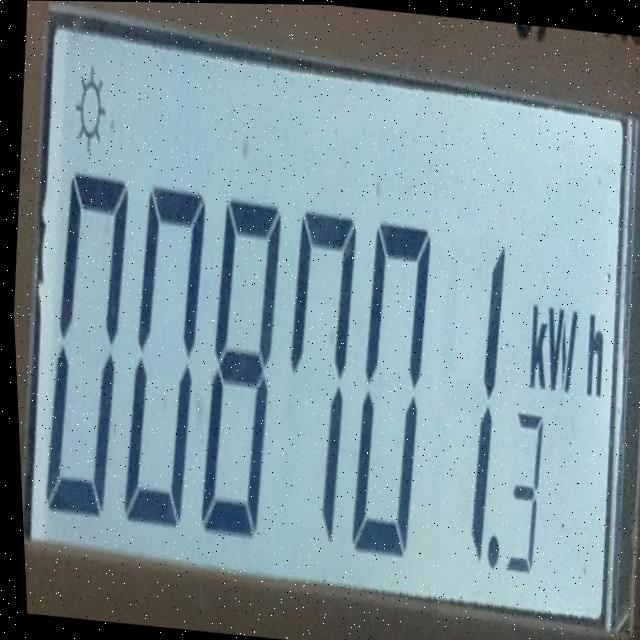.: (475, 505, 498, 587)
0: (105, 167, 223, 549), (27, 157, 144, 530), (326, 201, 442, 577)
1: (430, 215, 518, 561)
3: (488, 382, 549, 583)
7: (258, 177, 372, 544)
8: (181, 165, 296, 553)
